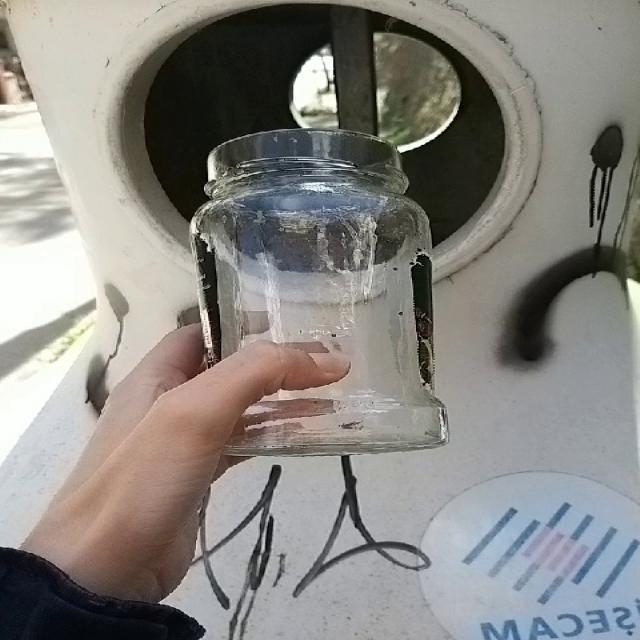Glass: (191, 129, 448, 456)
